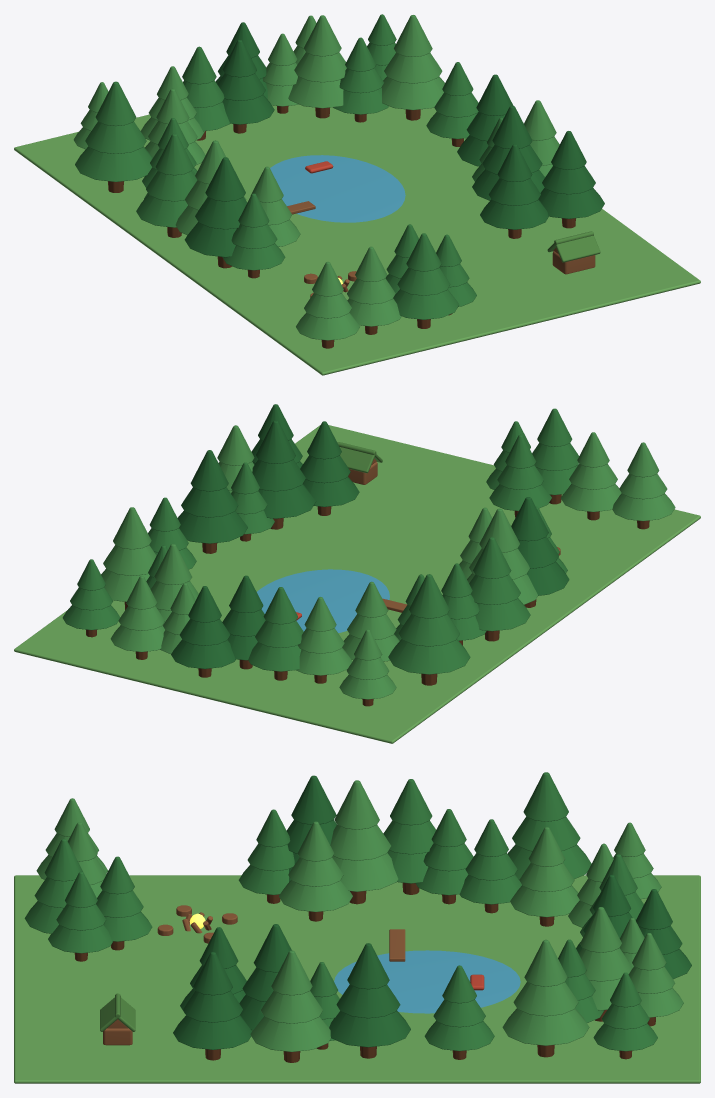
The model's file is centre.glb.
The picture shows the model from 3 angles, top to bottom: view 1: azimuth 30°, elevation 25°; view 2: azimuth 150°, elevation 25°; view 3: azimuth 270°, elevation 25°; orthographic projection. The views are drawn at different scales.
Visible parts, largest first — view 1: Cube; view 2: Cube; view 3: Cube.
Part boxes in pixels (x1,y1,x2,y2): Cube: [14, 14, 700, 375]; Cube: [14, 404, 700, 743]; Cube: [14, 772, 700, 1083].
Bounding box in the file's own units: 4.91 × 1.41 × 6.88.
